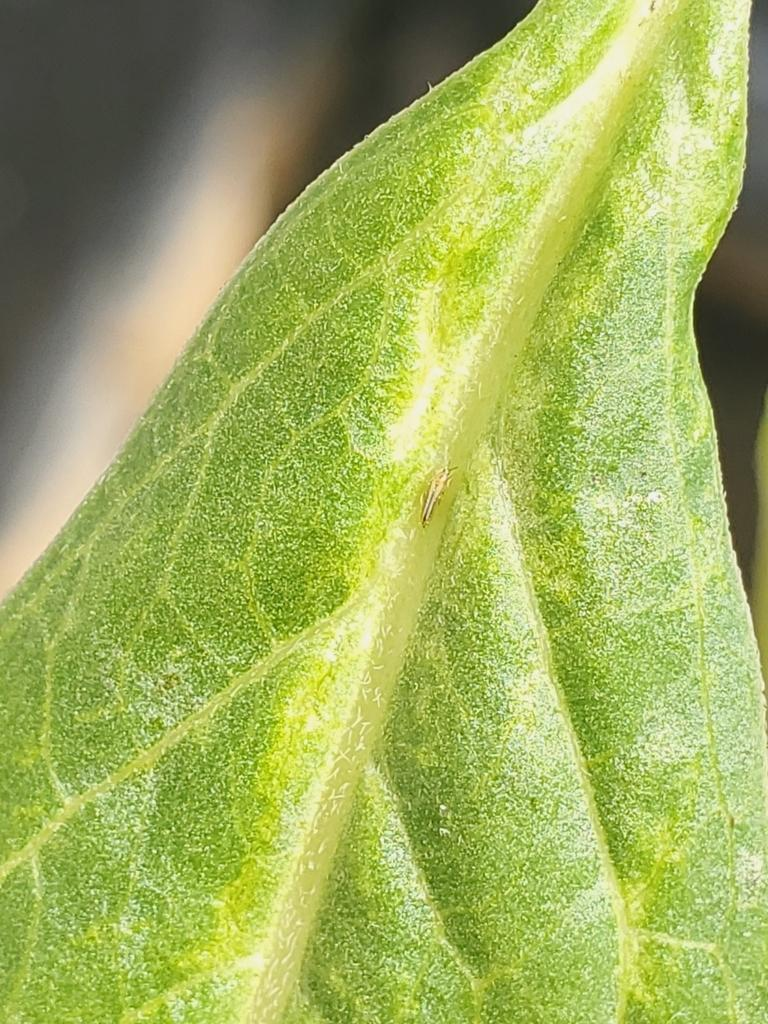tiny_pests: (404, 450, 470, 541)
